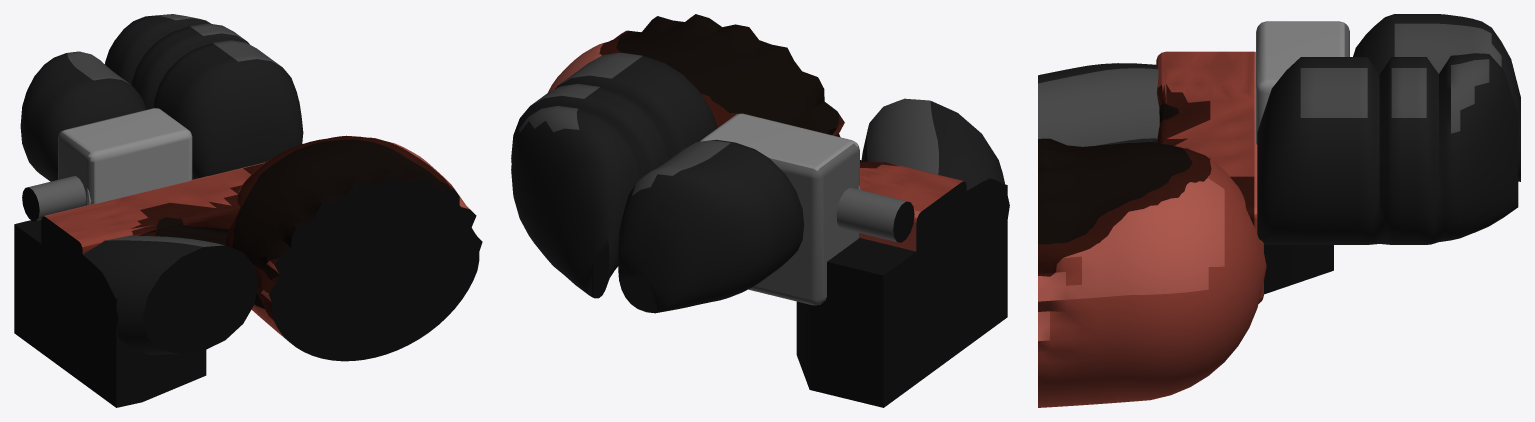
Rendered from deli_boss_125.glb.
The picture shows the model from 3 angles, left to right: view 1: azimuth 30°, elevation 25°; view 2: azimuth 150°, elevation 25°; view 3: azimuth 270°, elevation 25°; orthographic projection. The views are drawn at different scales.
Parts seen in each view (by area): view 1: deli_boss_125; view 2: deli_boss_125; view 3: deli_boss_125.
Part boxes in pixels (x1,y1,x2,y2): deli_boss_125: (14, 14, 482, 407); deli_boss_125: (511, 14, 1009, 407); deli_boss_125: (1038, 14, 1520, 407).
Size of the model in its own units: 19.75 by 12.26 by 17.95.
